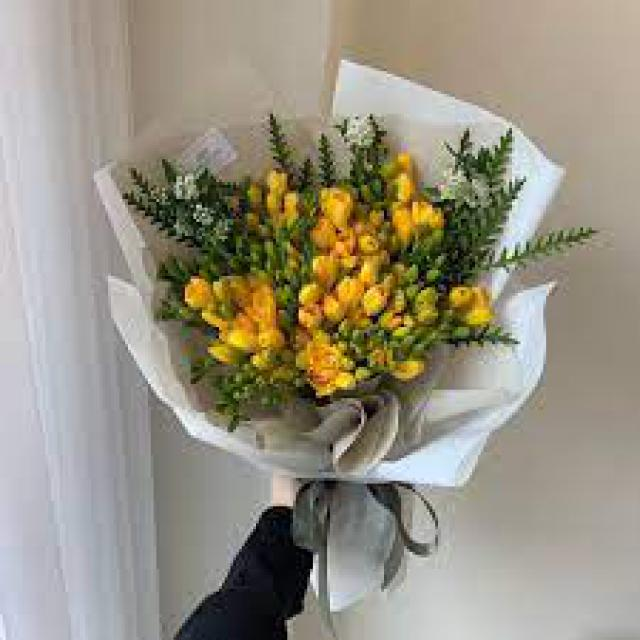freesia: (302, 338, 347, 394), (392, 200, 426, 260), (174, 276, 221, 314), (320, 182, 355, 232), (333, 268, 364, 323), (356, 275, 384, 318)
